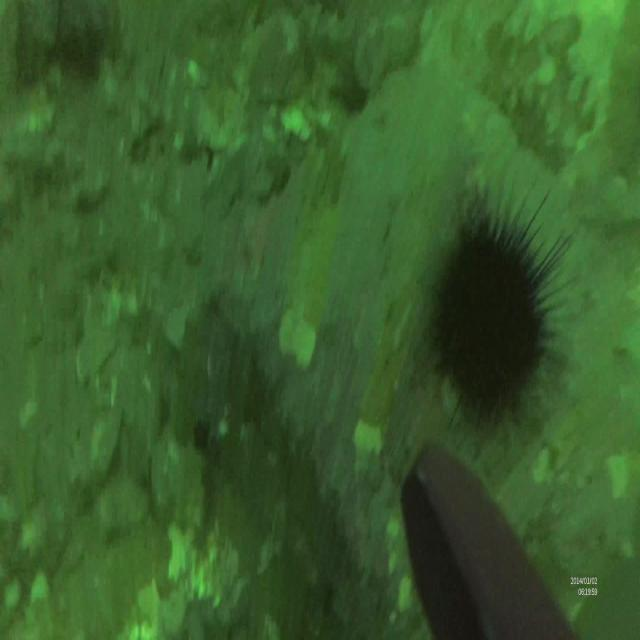echinus: (436, 180, 575, 433)
